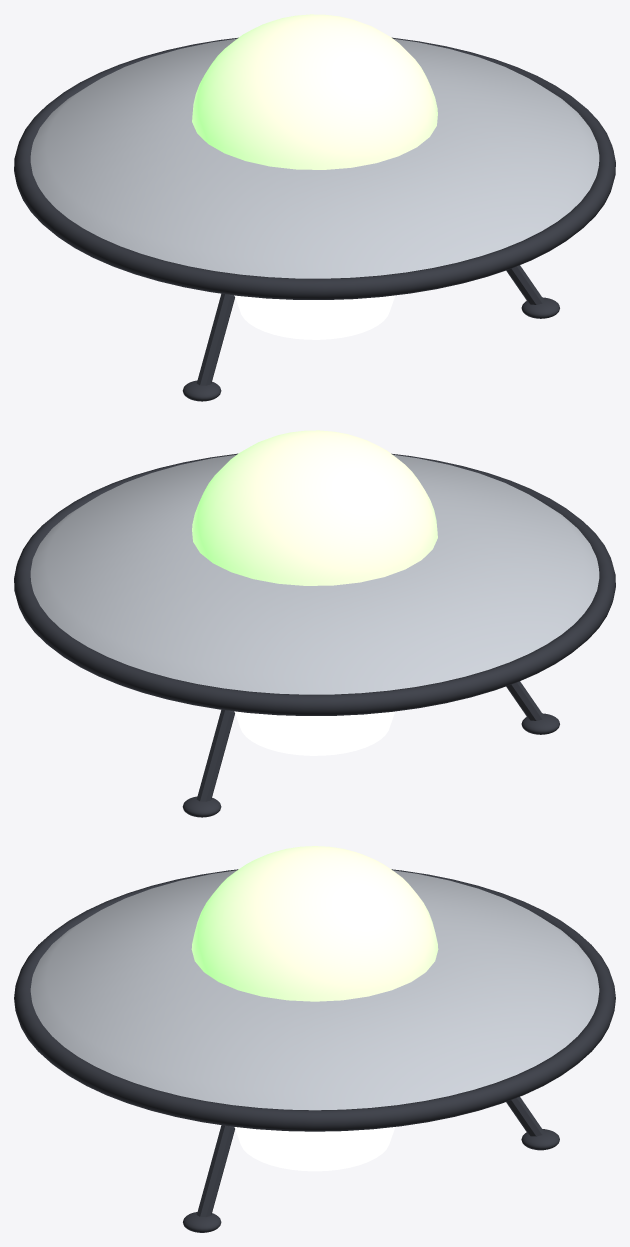
Rendered from Rocket_24_UFO.fbx.
3 views of the same model, one above another, from view 1: azimuth 30°, elevation 25°; view 2: azimuth 150°, elevation 25°; view 3: azimuth 270°, elevation 25° (orthographic).
Visible parts, largest first — view 1: R24_Saucer, R24_Dome, R24_Rim, R24_Beam, R24_Leg_2, R24_Leg_3, R24_Foot_2, R24_Foot_3; view 2: R24_Saucer, R24_Dome, R24_Rim, R24_Beam, R24_Leg, R24_Leg_2, R24_Foot, R24_Foot_2; view 3: R24_Saucer, R24_Dome, R24_Rim, R24_Beam, R24_Leg_3, R24_Leg, R24_Foot_3, R24_Foot.
Part boxes in pixels (x1=…): R24_Saucer: x1=30, y1=38, x2=599, y2=278; R24_Dome: x1=192, y1=14, x2=437, y2=169; R24_Rim: x1=14, y1=37, x2=615, y2=299; R24_Beam: x1=234, y1=295, x2=395, y2=339; R24_Leg_2: x1=196, y1=293, x2=234, y2=385; R24_Leg_3: x1=506, y1=265, x2=544, y2=304; R24_Foot_2: x1=182, y1=380, x2=221, y2=401; R24_Foot_3: x1=521, y1=297, x2=559, y2=318; R24_Saucer: x1=30, y1=454, x2=599, y2=694; R24_Dome: x1=192, y1=430, x2=437, y2=585; R24_Rim: x1=14, y1=453, x2=615, y2=715; R24_Beam: x1=234, y1=711, x2=395, y2=755; R24_Leg: x1=196, y1=709, x2=234, y2=801; R24_Leg_2: x1=506, y1=681, x2=544, y2=720; R24_Foot: x1=182, y1=796, x2=221, y2=817; R24_Foot_2: x1=521, y1=713, x2=559, y2=734; R24_Saucer: x1=30, y1=870, x2=599, y2=1110; R24_Dome: x1=191, y1=846, x2=438, y2=1001; R24_Rim: x1=14, y1=869, x2=615, y2=1131; R24_Beam: x1=234, y1=1127, x2=395, y2=1171; R24_Leg_3: x1=196, y1=1125, x2=234, y2=1217; R24_Leg: x1=506, y1=1097, x2=544, y2=1136; R24_Foot_3: x1=183, y1=1212, x2=221, y2=1232; R24_Foot: x1=521, y1=1129, x2=559, y2=1150.
Bounding box in the file's own units: 5.6 × 2.95 × 5.6.
